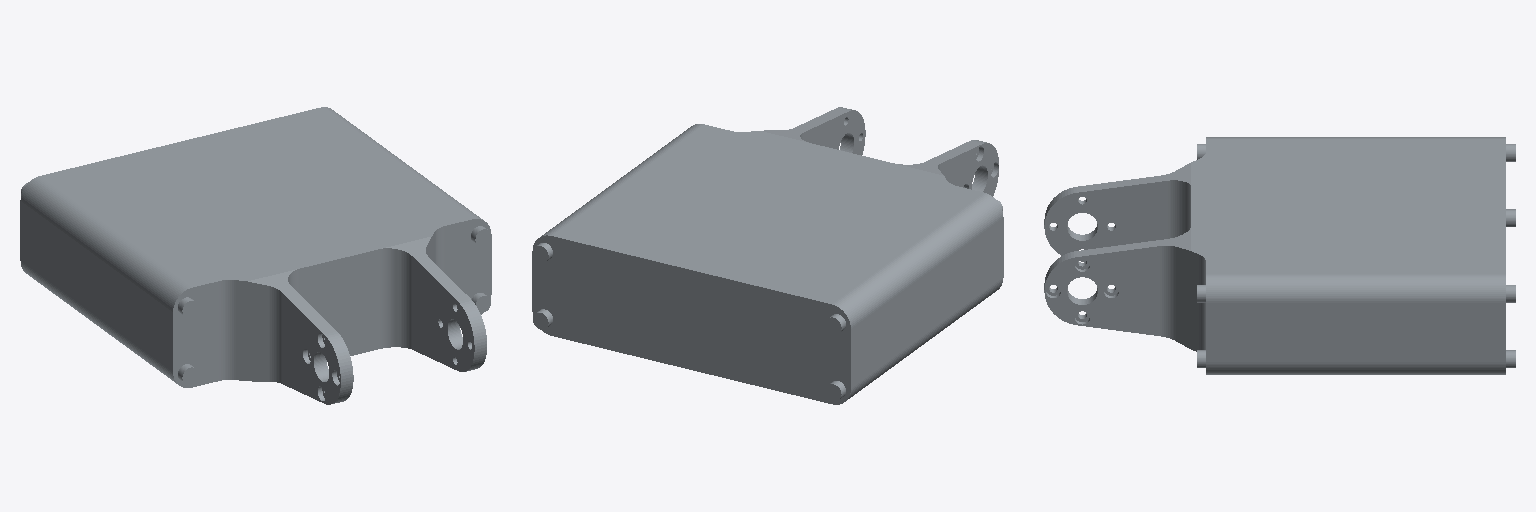
robot.urdf — sysID_2XC430:
<?xml version="1.0" ?><robot name="sysID_2XC430">  
  <link name="2xc430">    
    <visual>      
      <origin xyz="0 0 0" rpy="0 -0 0"/>      
      <geometry>        
        <mesh filename="package:///meshes/2xc430_visual.stl"/>        
      </geometry>      
      <material name="2xc430_material">        
        <color rgba="0.53778433395328428812 0.5264357970166424483 0.5155377112718237953 1.0"/>        
      </material>      
    </visual>    
    <collision>      
      <origin xyz="0 0 0" rpy="0 -0 0"/>      
      <geometry>        
        <mesh filename="package:///meshes/2xc430_collision.stl"/>        
      </geometry>      
    </collision>    
    <inertial>      
      <origin xyz="0.075524953696132254843 0.017886243519076066438 0.0056748822304184699111" rpy="0 0 0"/>      
      <mass value="0.13164999999836235478"/>      
      <inertia ixx="4.5973499788565142952e-05" ixy="-6.3707692171101749411e-06" ixz="-6.4106848464462829903e-07" iyy="4.4966269289965492164e-05" iyz="-1.4151876066262552453e-07" izz="5.894200547616510697e-05"/>      
    </inertial>    
  </link>  

  <link name="arm_430">    
    <visual>      
      <origin xyz="0 0 0" rpy="0 -0 0"/>      
      <geometry>        
        <mesh filename="package:///meshes/arm_430_visual.stl"/>        
      </geometry>      
      <material name="arm_430_material">        
        <color rgba="0.62999456499017503219 0.65518625360592019913 0.6781537689702749061 1.0"/>        
      </material>      
    </visual>    
    <collision>      
      <origin xyz="0 0 0" rpy="0 -0 0"/>      
      <geometry>        
        <mesh filename="package:///meshes/arm_430_collision.stl"/>        
      </geometry>      
    </collision>    
    <inertial>      
      <origin xyz="-0.072230555077122768348 -2.4728305146707639804e-17 -0.019000000000000041162" rpy="0 0 0"/>      
      <mass value="0.23449999999999993072"/>      
      <inertia ixx="0.00023538980795506262789" ixy="-4.1186977060240353987e-20" ixz="-3.7692966152816365089e-20" iyy="0.00036901840263902155326" iyz="1.4653489992998104327e-16" izz="0.00018448272046932699306"/>      
    </inertial>    
  </link>  

  <joint name="joint_0" type="revolute">    
    <origin xyz="0.096000000152447806379 0.032699858643998935825 0.0062193960984139899303" rpy="-1.5707963267948961139 1.0547118733939117296e-15 -1.5707963267948950037"/>    
    <parent link="2xc430"/>    
    <child link="arm_430"/>    
    <axis xyz="0 0 1"/>    
    <limit effort="1" velocity="20" lower="-1.570796326794896558" upper="1.570796326794896558"/>    
    <joint_properties friction="0.0"/>    
  </joint>  


</robot>

--- Render facts (derived) ---
Views: 3 orthographic renders of the robot side by side, from view 1: azimuth 30°, elevation 25°; view 2: azimuth 150°, elevation 25°; view 3: azimuth 270°, elevation 25°.
Robot: sysID_2XC430 — 2 links, 1 joints (1 revolute); root link 2xc430; default pose: every joint at zero.
Visible links, largest first — view 1: arm_430; view 2: arm_430; view 3: arm_430.
Boxes of the visible links, <box> form: arm_430: <box>20,107,491,404</box>; arm_430: <box>532,107,1003,404</box>; arm_430: <box>1044,137,1515,374</box>.
Size in the robot's own frame: 0.1 by 0.13 by 0.03 metres.
1 mesh visuals loaded from 2 distinct referenced files (1 binary STL); not drawn: 1 (reference not matched to a file when rendering).